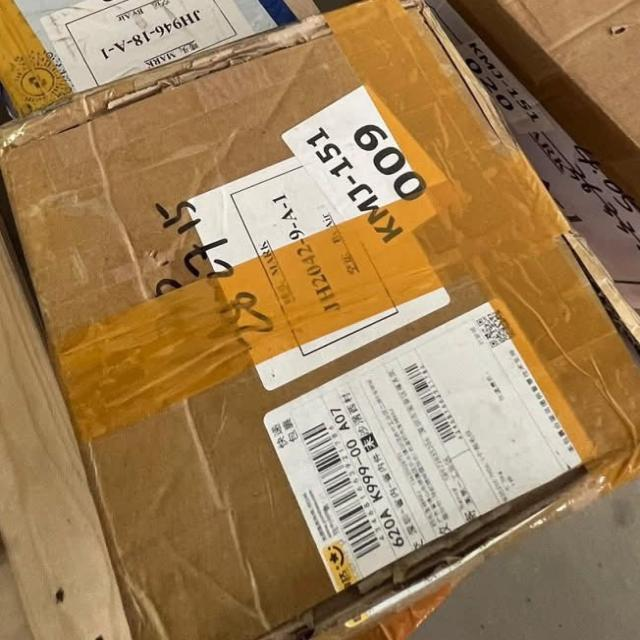carton_box: (3, 0, 640, 631)
export_mark_label: (256, 314, 586, 584), (163, 150, 462, 382)
package_damage: (407, 0, 640, 366), (191, 458, 640, 640), (1, 33, 320, 142)
